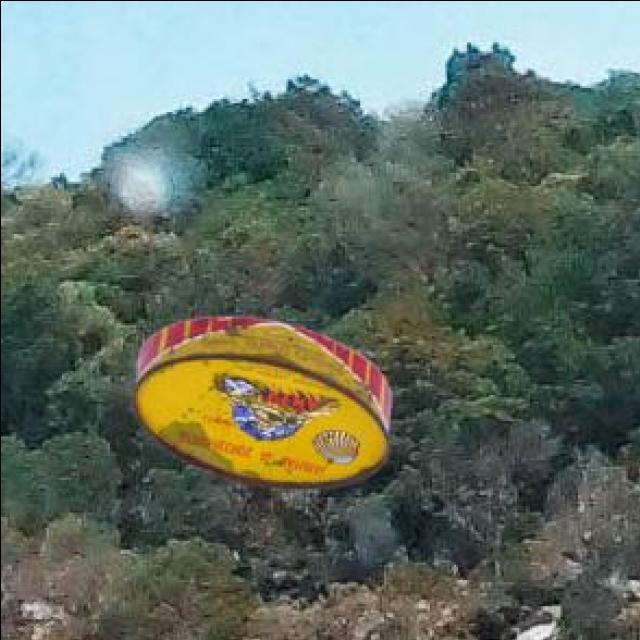logam: (134, 312, 393, 484)
